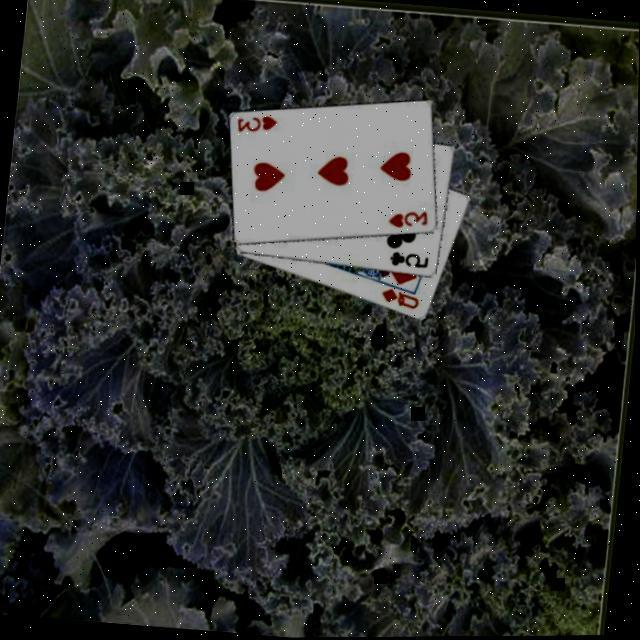3H: (232, 112, 279, 140), (385, 206, 431, 234)
5C: (386, 249, 431, 273)
QD: (377, 287, 422, 315)
